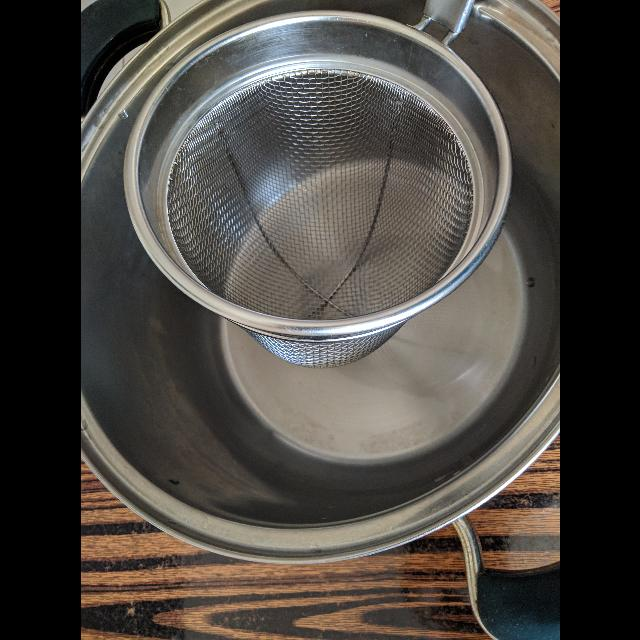Strainer: (121, 9, 508, 344)
